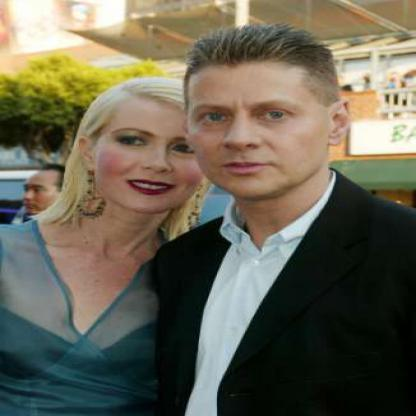face: (183, 32, 333, 199), (97, 80, 218, 214), (22, 167, 68, 218)
